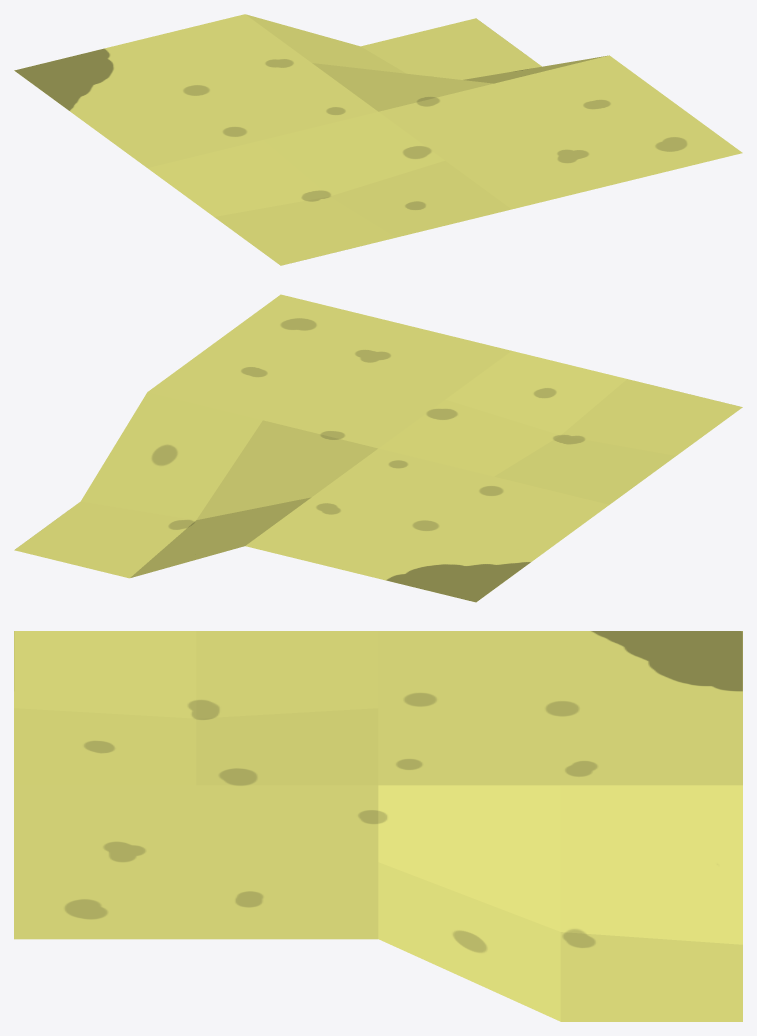
File: AreiaInferiorDireito.glb
3 renders of one model, top to bottom at view 1: azimuth 30°, elevation 25°; view 2: azimuth 150°, elevation 25°; view 3: azimuth 270°, elevation 25°, orthographic. The views are drawn at different scales.
Parts seen in each view (by area): view 1: Plano; view 2: Plano; view 3: Plano.
Part boxes in pixels (x1,y1,x2,y2): Plano: [14, 14, 742, 265]; Plano: [14, 294, 742, 602]; Plano: [14, 631, 742, 1021].
Size of the model in its own units: 2 by 0.25 by 2.
1 material, 1 textured.
